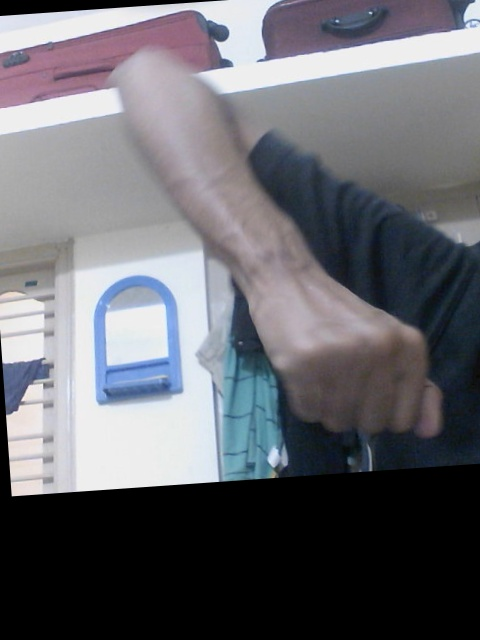hand: (230, 257, 445, 442)
